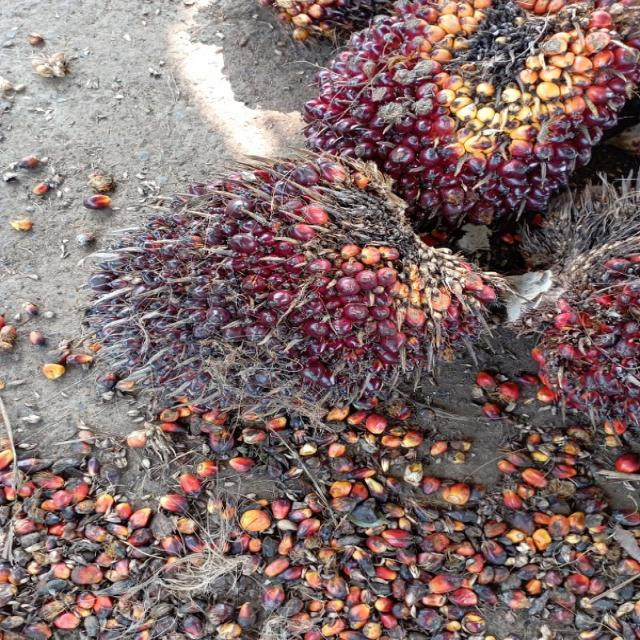fraksi 1: (97, 139, 468, 413), (300, 0, 640, 243)
